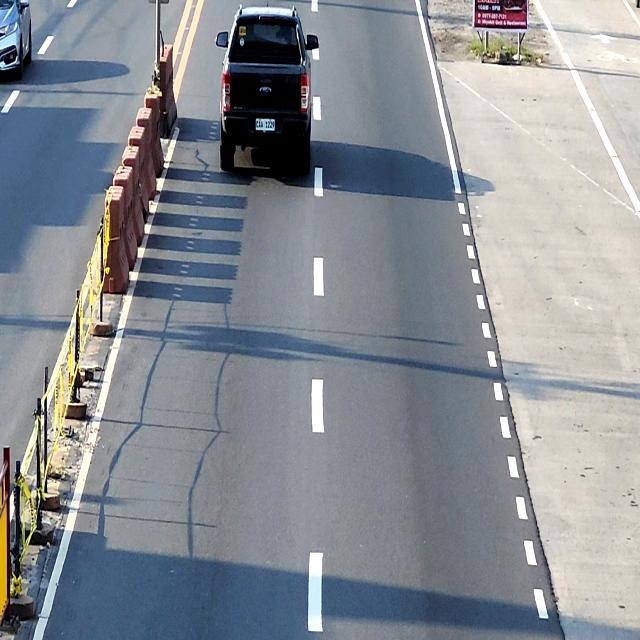Car: (216, 7, 318, 170), (0, 0, 32, 81)
License-Plate: (256, 118, 276, 131)
